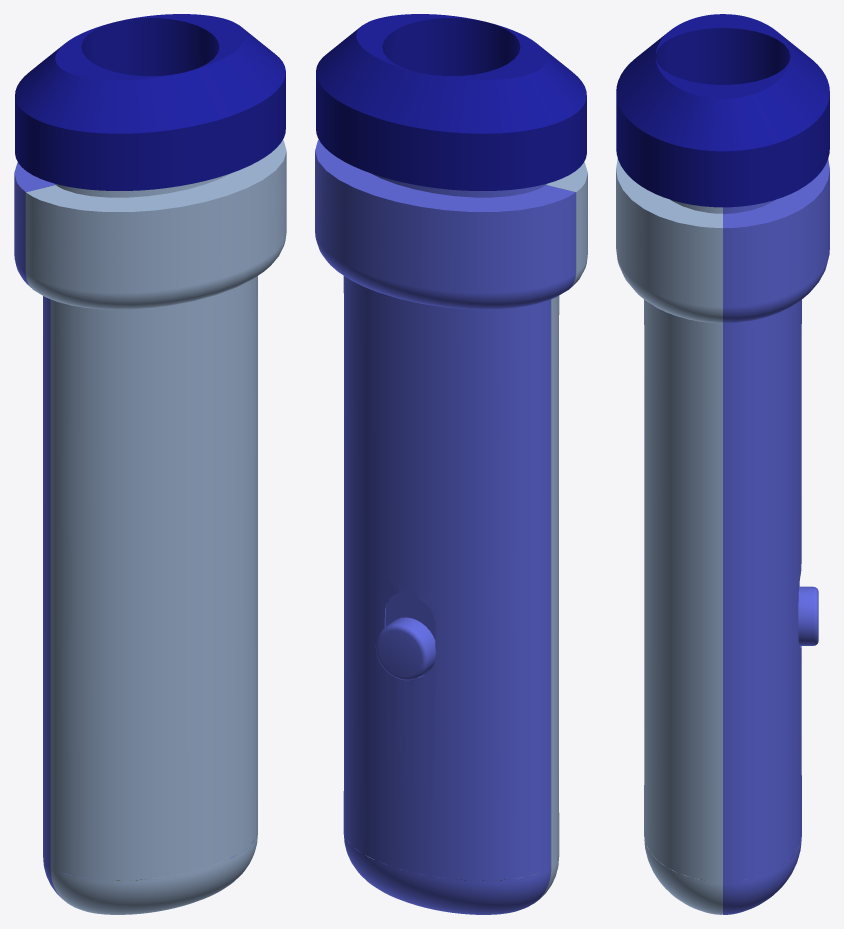
3 renders of one model, left to right at view 1: azimuth 30°, elevation 25°; view 2: azimuth 150°, elevation 25°; view 3: azimuth 270°, elevation 25°, orthographic. The views are drawn at different scales.
Parts seen in each view (by area): view 1: FACE_ARRIERE, CHAPEAU_LOUPE, FACE_AVANT; view 2: FACE_AVANT, CHAPEAU_LOUPE, FACE_ARRIERE, BOUTON; view 3: FACE_ARRIERE, FACE_AVANT, CHAPEAU_LOUPE, BOUTON.
Boxes of the visible parts, bbox=[...] form: FACE_ARRIERE: bbox=[25, 140, 286, 914]; CHAPEAU_LOUPE: bbox=[15, 14, 285, 190]; FACE_AVANT: bbox=[14, 162, 235, 897]; FACE_AVANT: bbox=[315, 140, 575, 914]; CHAPEAU_LOUPE: bbox=[316, 14, 586, 190]; FACE_ARRIERE: bbox=[367, 162, 587, 903]; BOUTON: bbox=[375, 593, 435, 680]; FACE_ARRIERE: bbox=[616, 158, 722, 914]; FACE_AVANT: bbox=[723, 159, 829, 914]; CHAPEAU_LOUPE: bbox=[616, 14, 829, 207]; BOUTON: bbox=[798, 586, 818, 645].
Bounding box in the file's own units: 5.01 × 16.3 × 3.8.
